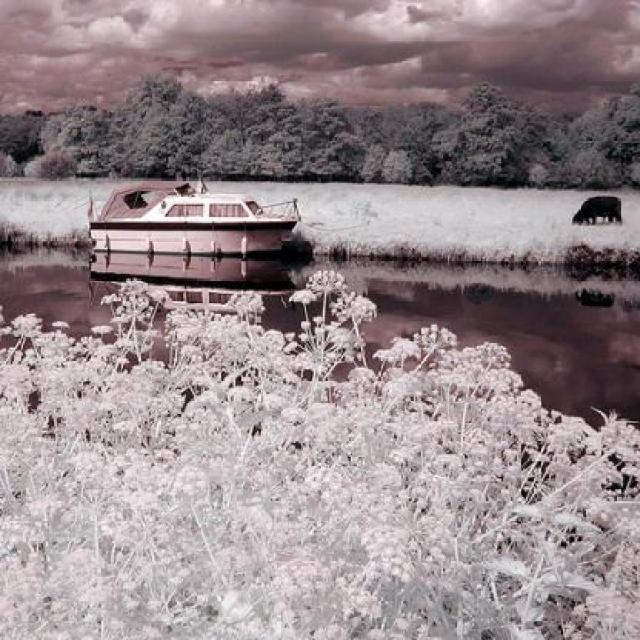ship: (81, 179, 304, 258)
